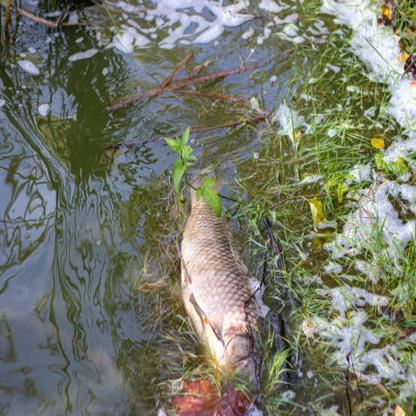deceased fish: (178, 179, 267, 408)
